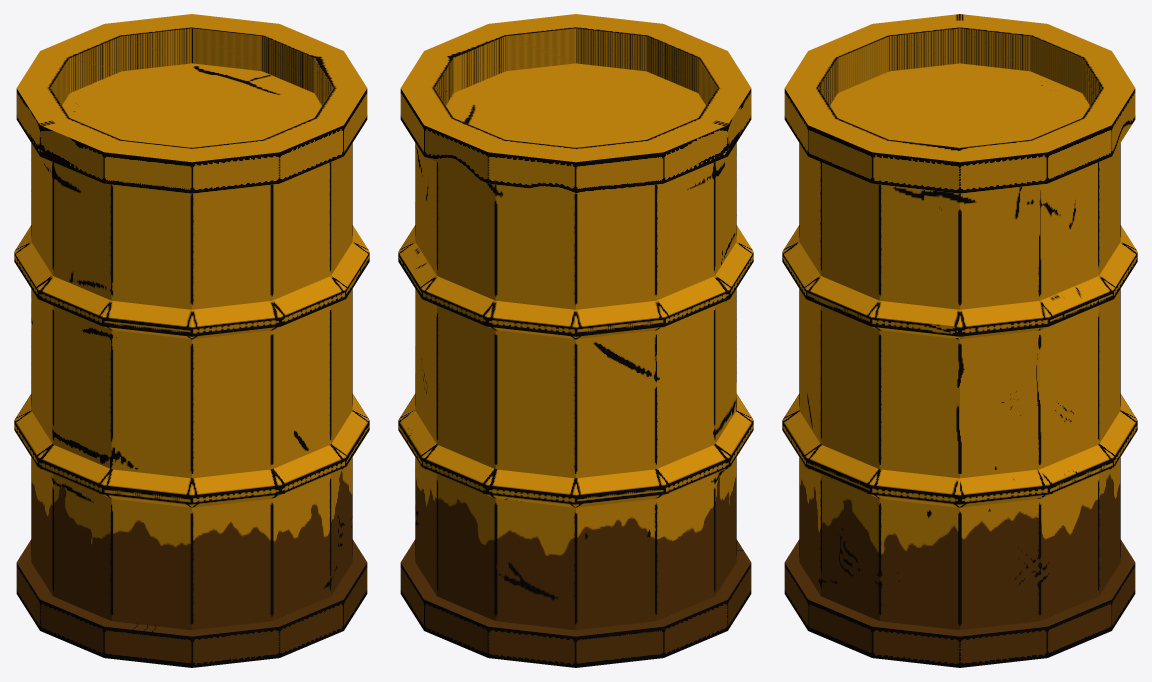
The model's file is Barrel.glb.
3 views of the same model, side by side, from view 1: azimuth 30°, elevation 25°; view 2: azimuth 150°, elevation 25°; view 3: azimuth 270°, elevation 25° (orthographic).
Parts seen in each view (by area): view 1: Low poly Barrel; view 2: Low poly Barrel; view 3: Low poly Barrel.
Boxes of the visible parts, x1,y1,x2,y2 form: Low poly Barrel: (14, 14, 369, 667); Low poly Barrel: (398, 14, 753, 667); Low poly Barrel: (782, 14, 1137, 667).
Size of the model in its own units: 0.18 by 0.2824 by 0.18.
1 material, 1 textured.
